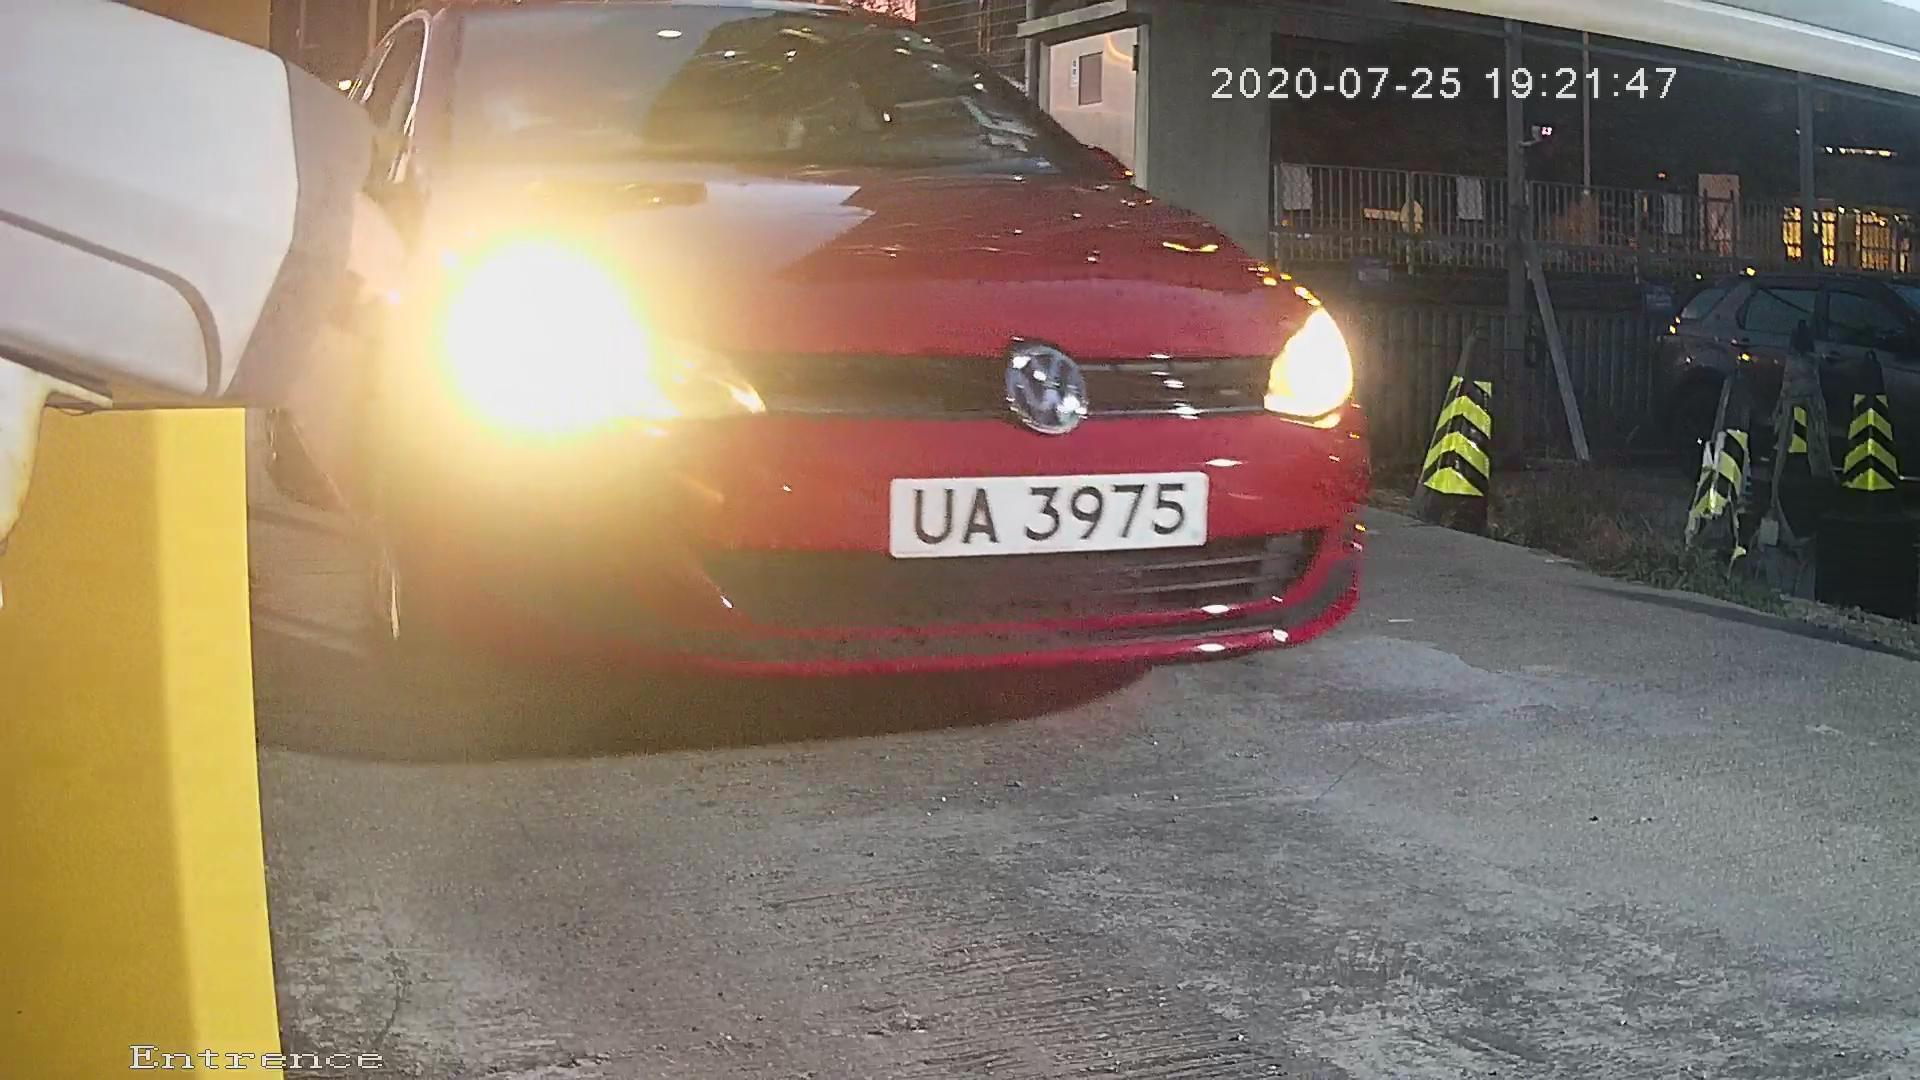privatecar: (309, 11, 1389, 782)
